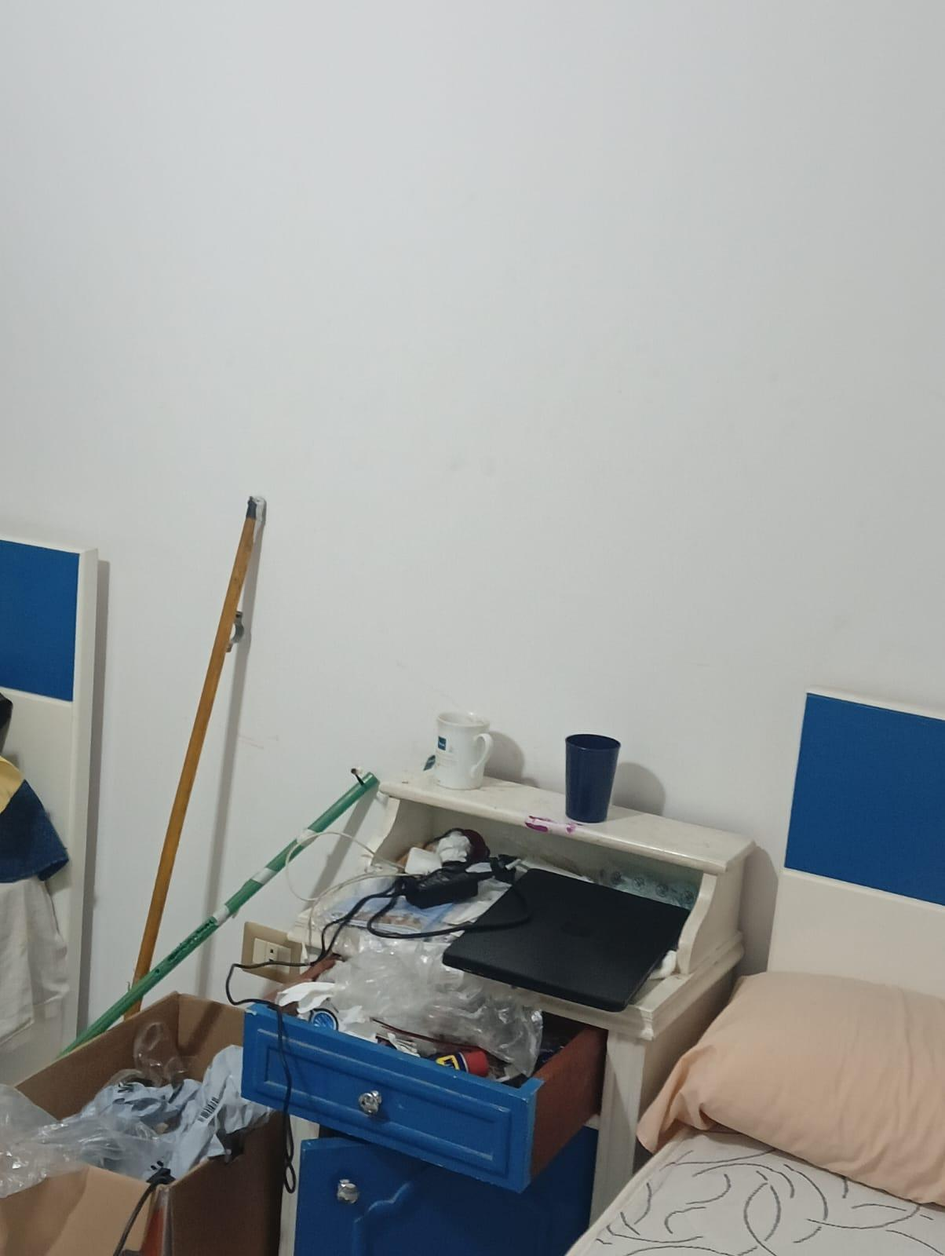cup: (565, 734, 619, 822), (433, 712, 492, 789)
